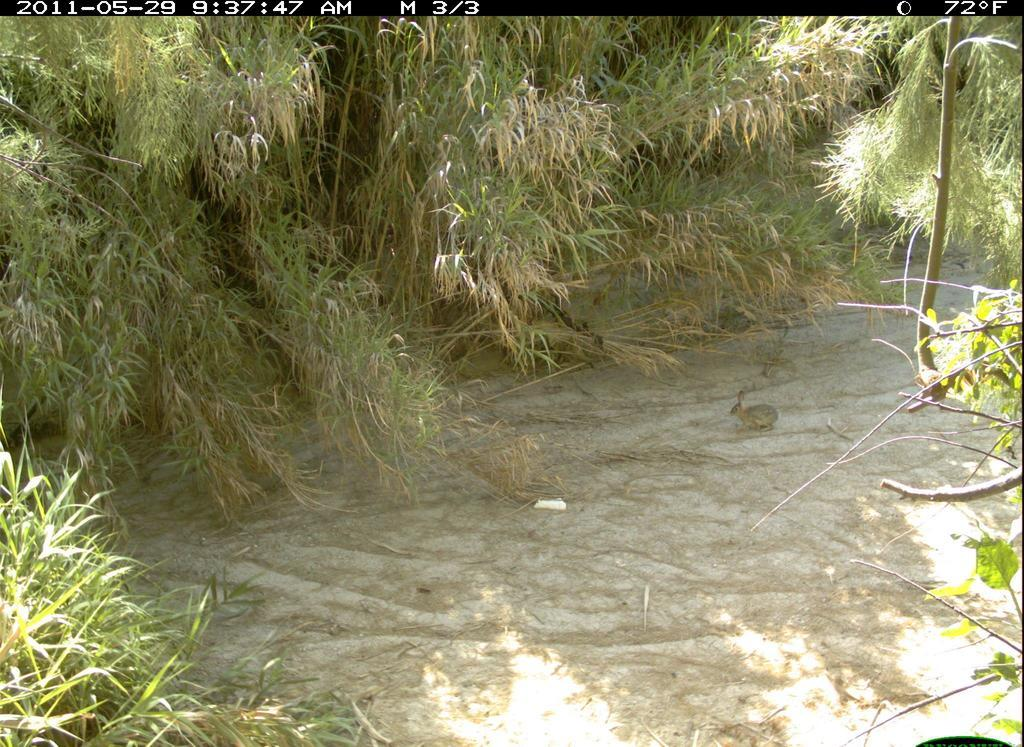rabbit: (713, 382, 798, 446)
